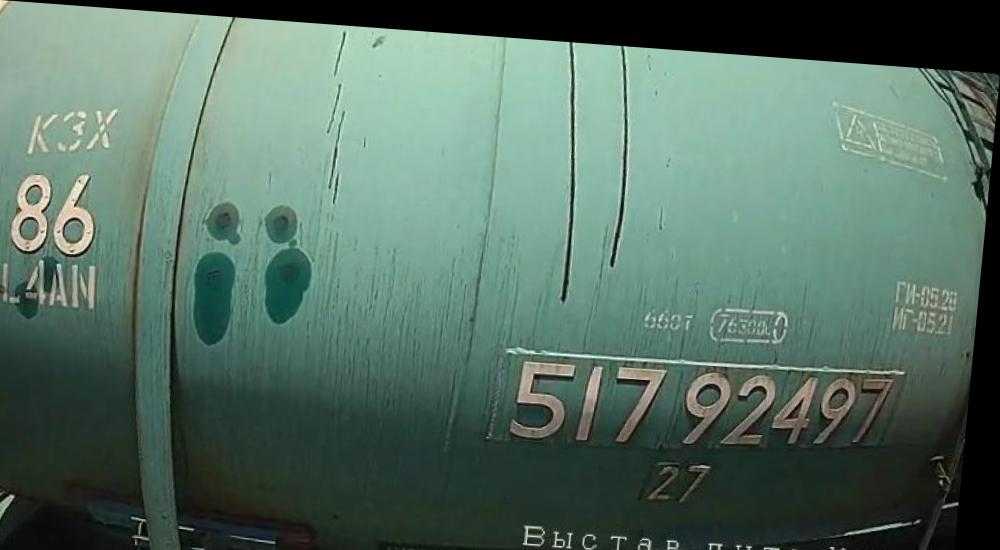Wagon-number: (509, 335, 907, 457)
